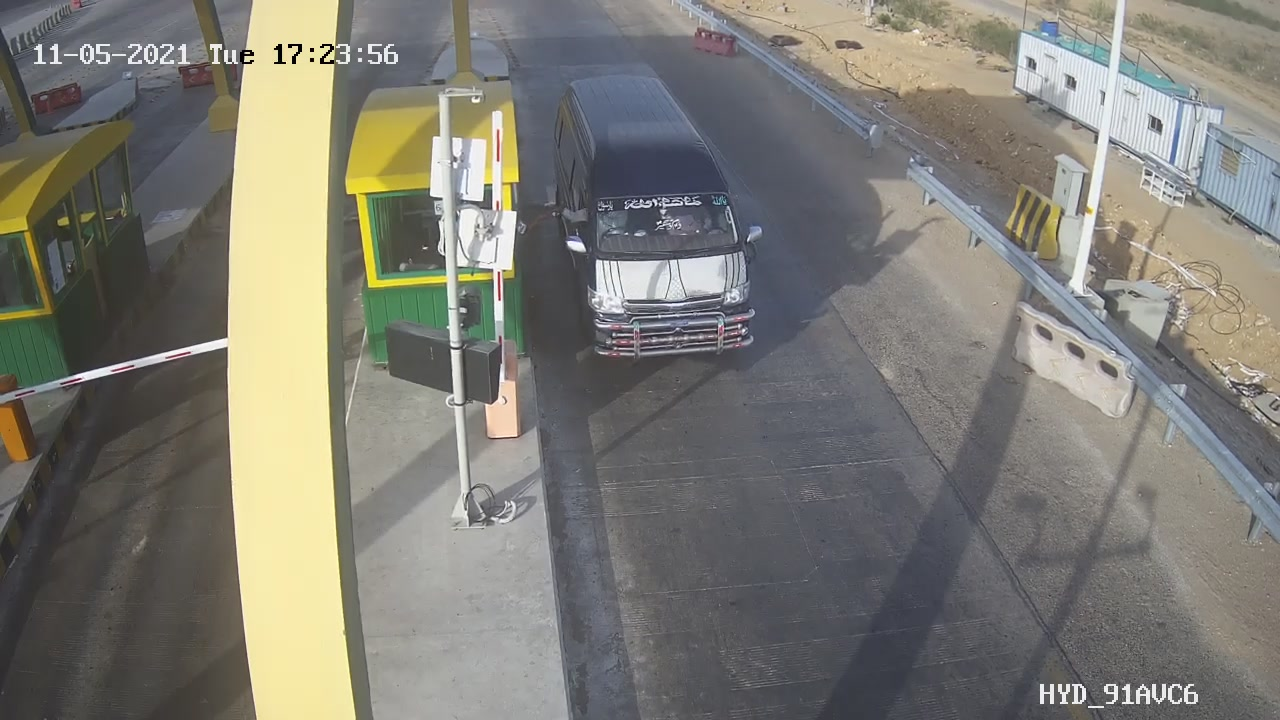F2: (530, 57, 785, 383)
